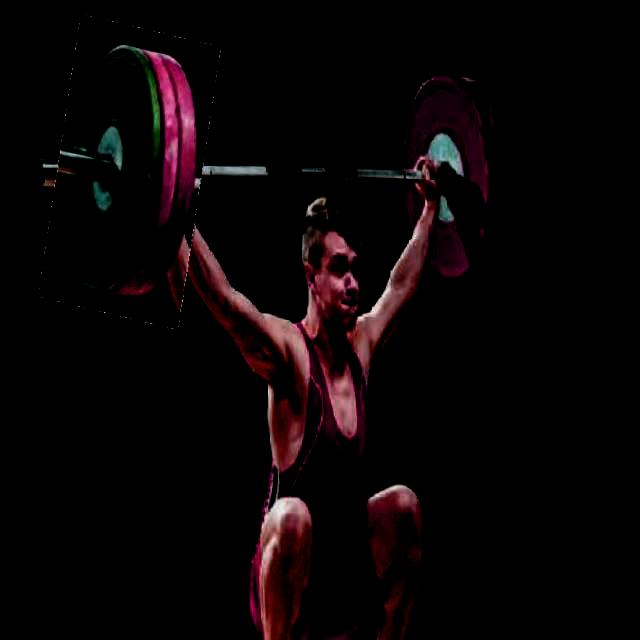barbell: (40, 18, 217, 325)
